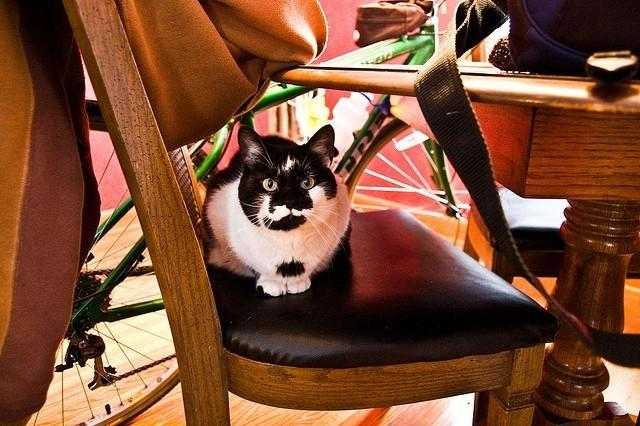bicycle: (31, 16, 472, 421)
